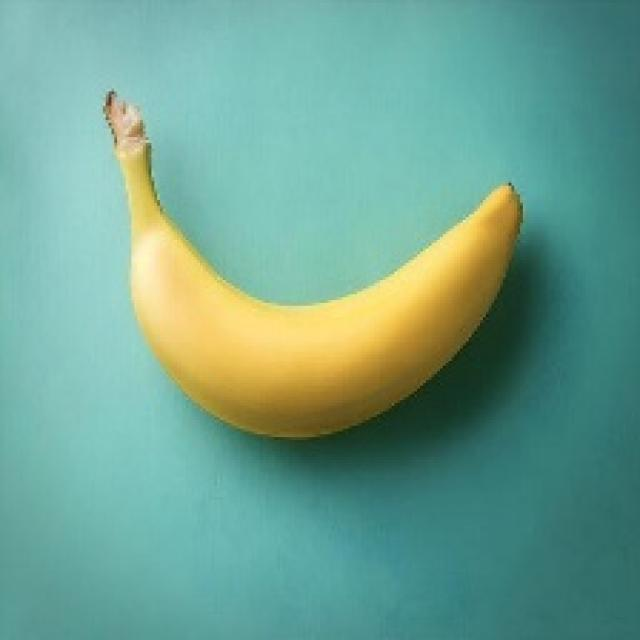Banana: (100, 86, 523, 440)
